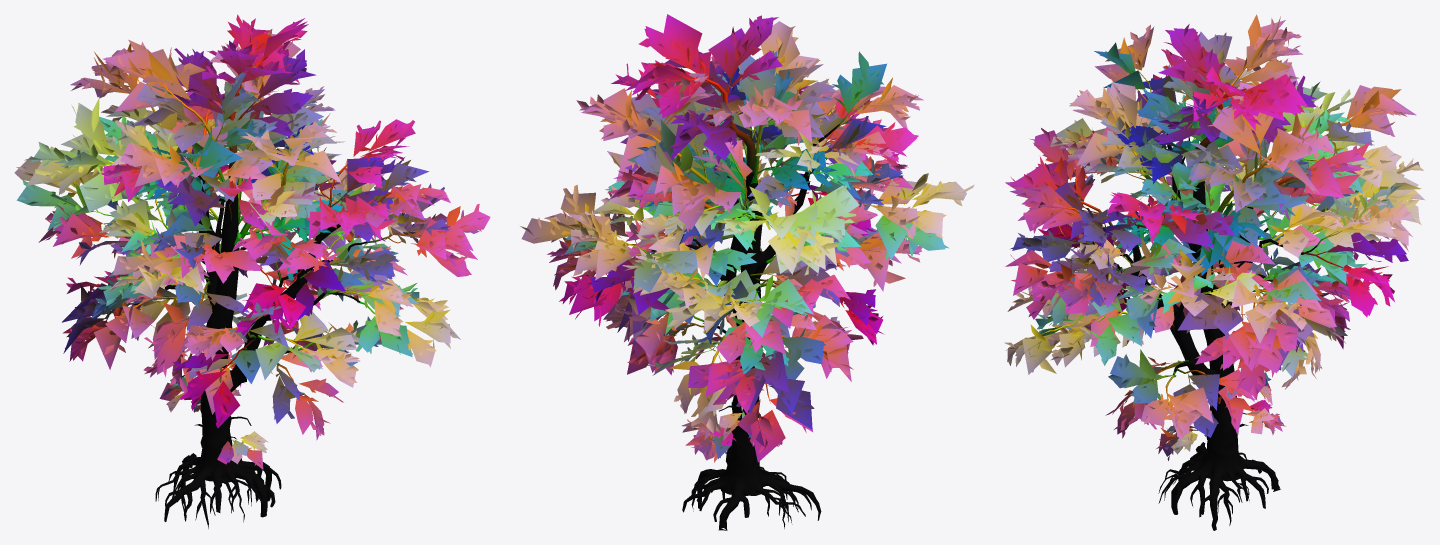
Rendered from SM_EuropeanBeech_XL_02.fbx.
The picture shows the model from 3 angles, left to right: view 1: azimuth 30°, elevation 25°; view 2: azimuth 150°, elevation 25°; view 3: azimuth 270°, elevation 25°; orthographic projection. The views are drawn at different scales.
Visible parts, largest first — view 1: SM_EuropeanBeech_XL_02_LOD0; view 2: SM_EuropeanBeech_XL_02_LOD0; view 3: SM_EuropeanBeech_XL_02_LOD0.
Part boxes in pixels (<box>): SM_EuropeanBeech_XL_02_LOD0: <box>14,14,490,528</box>; SM_EuropeanBeech_XL_02_LOD0: <box>520,14,974,530</box>; SM_EuropeanBeech_XL_02_LOD0: <box>1004,14,1424,530</box>.
Size of the model in its own units: 1734 by 1841 by 2321.
